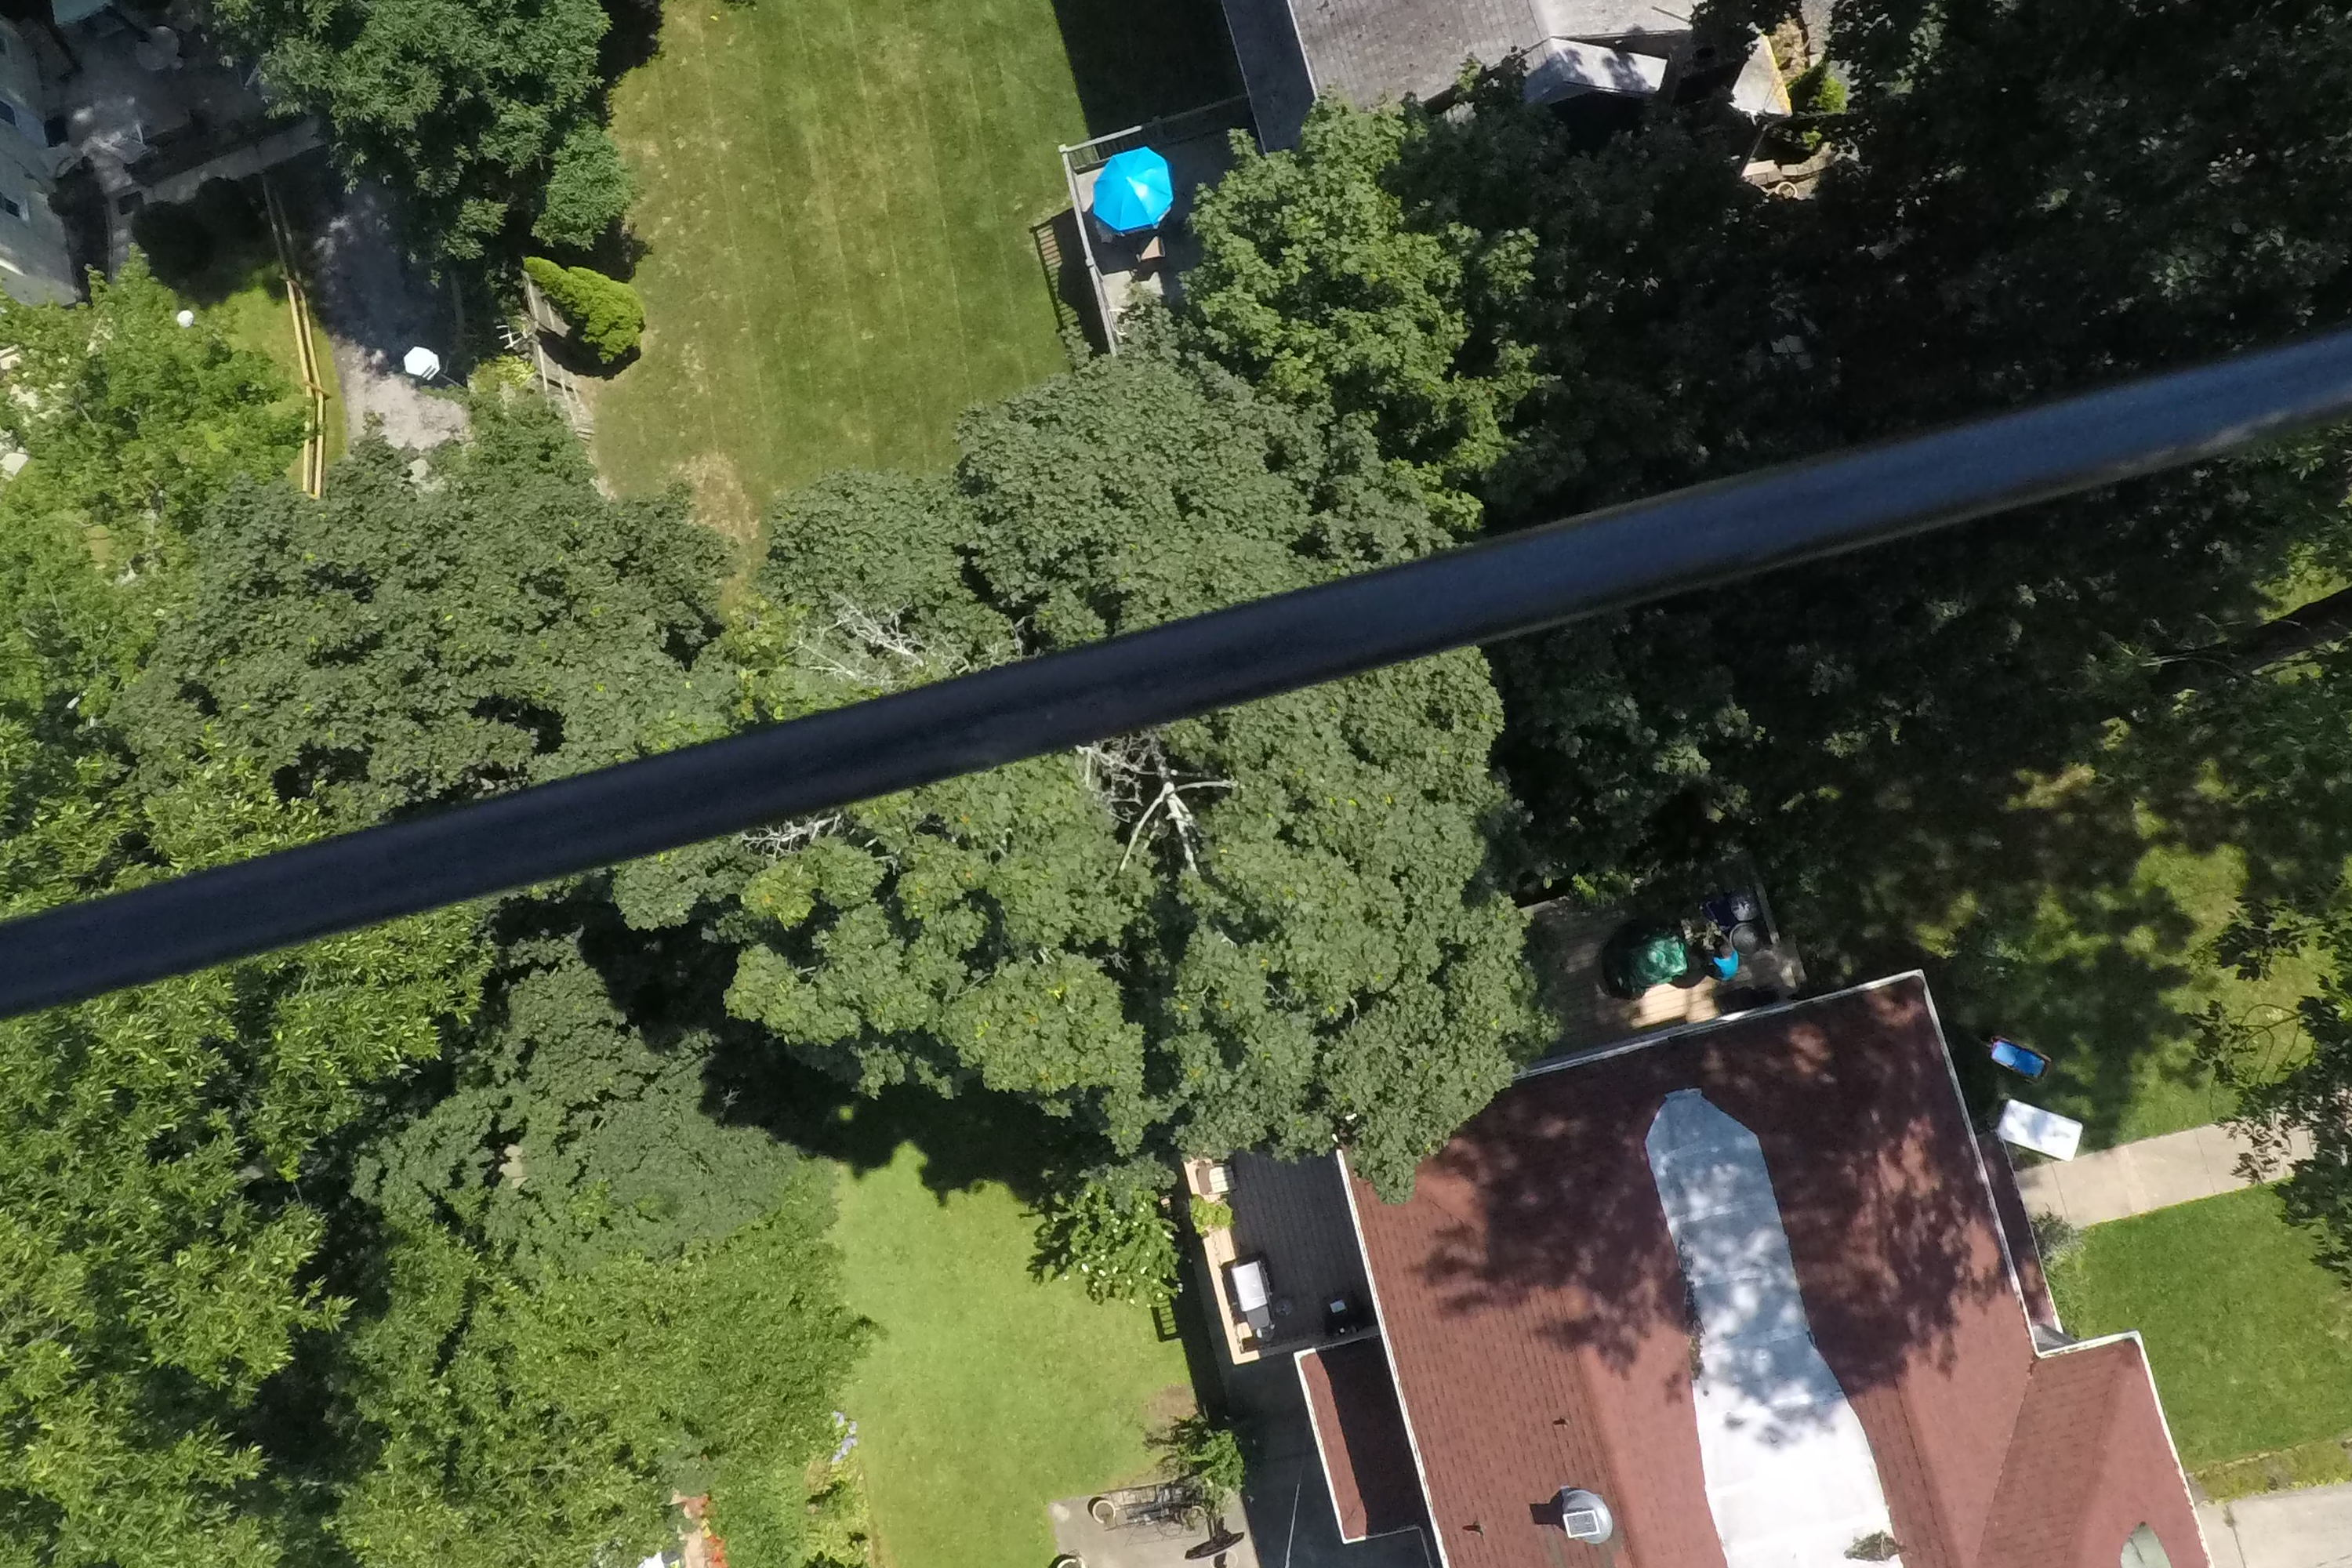basketball: (1171, 1479, 1246, 1568)
flower pot - no base: (1088, 1496, 1120, 1528)
garbage bin: (1710, 884, 1757, 922), (1727, 922, 1771, 961)
larvae: (1594, 912, 1690, 1006)
porch: (1454, 829, 1845, 1104), (1143, 1116, 1404, 1370)
property - larvae: (896, 796, 2229, 1568)
tarp: (1596, 912, 1690, 1004)
